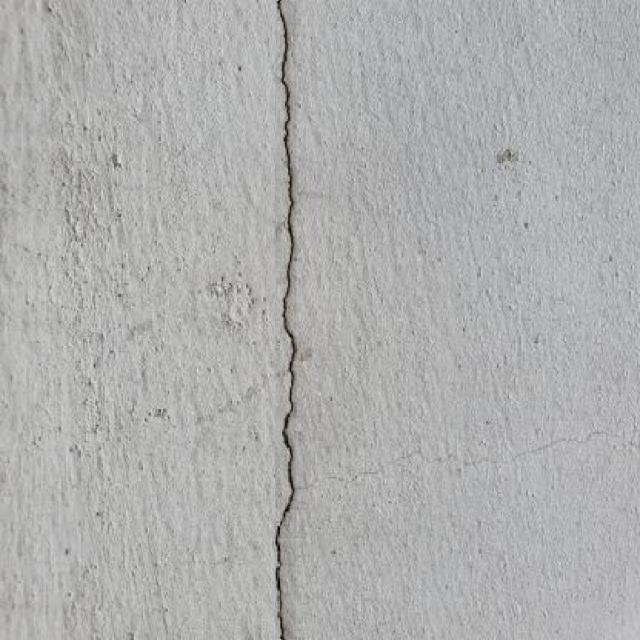vertical crack: (275, 1, 296, 639)
